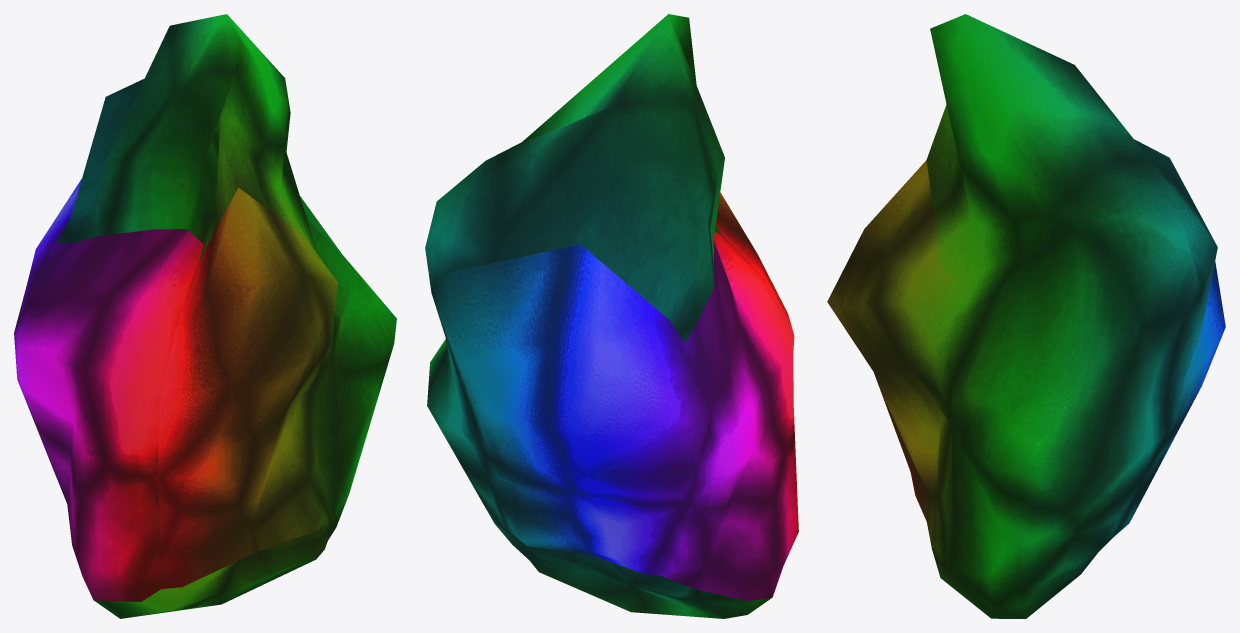
Rendered from finalCrystal.glb.
The picture shows the model from 3 angles, left to right: view 1: azimuth 30°, elevation 25°; view 2: azimuth 150°, elevation 25°; view 3: azimuth 270°, elevation 25°; orthographic projection. The views are drawn at different scales.
Parts seen in each view (by area): view 1: Rainbow; view 2: Rainbow; view 3: Rainbow.
Part boxes in pixels (x1,y1,x2,y2): Rainbow: (14, 14, 396, 618); Rainbow: (425, 14, 798, 618); Rainbow: (827, 14, 1225, 618).
Size of the model in its own units: 1.15 by 1.91 by 1.2.
Materials: 1 (1 with a texture image).
